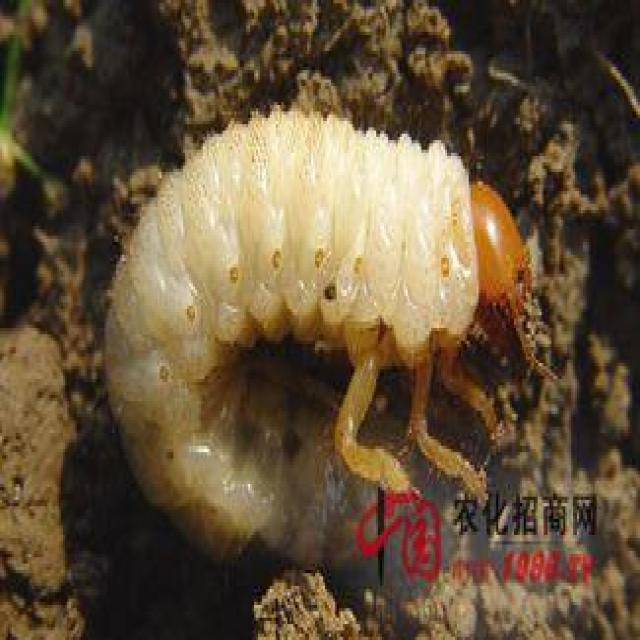Grub-Adult-: (111, 81, 542, 588)
